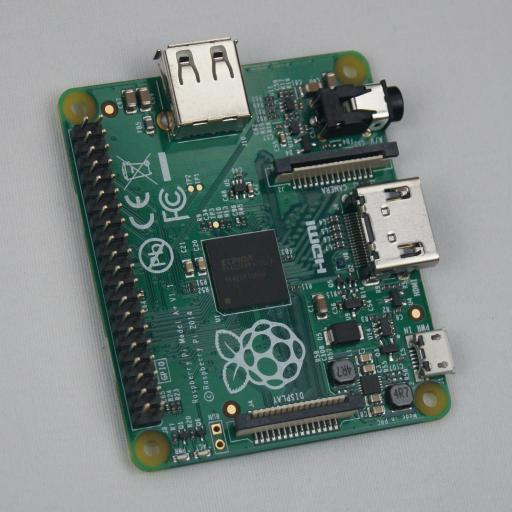Raspberry Pi A-: (58, 39, 455, 472)
